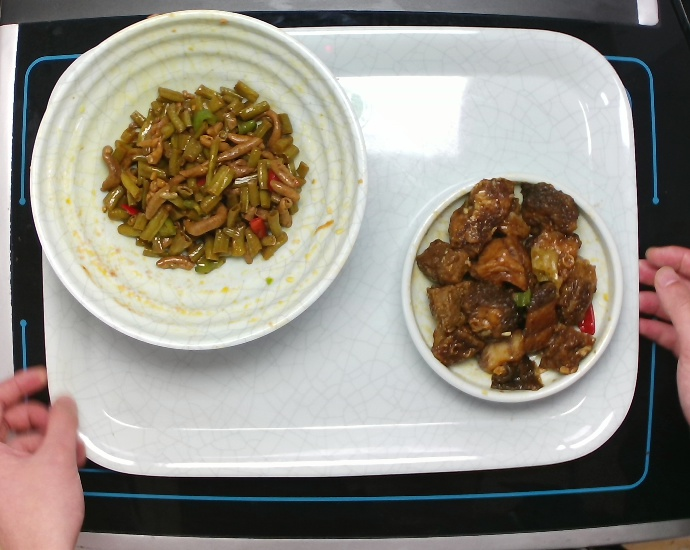JYsf-Da_Tang_Wan: (24, 6, 369, 353)
JYsf-Xiao_Yuan_Pan: (398, 170, 628, 412)
